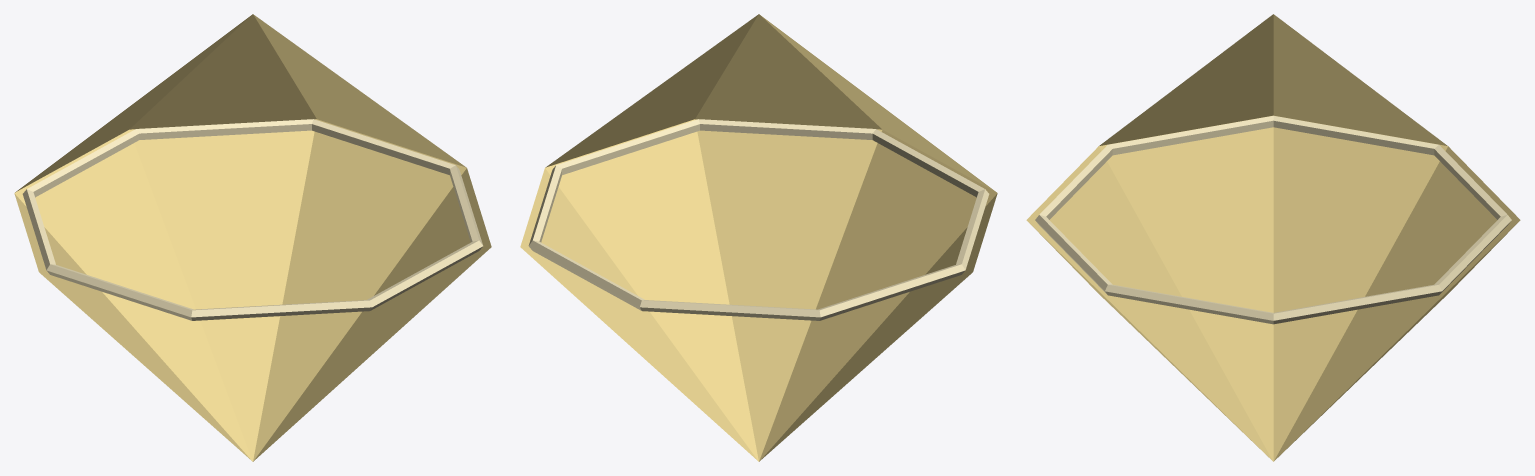
Rendered from gema_dorada.glb.
3 views of the same model, side by side, from view 1: azimuth 30°, elevation 25°; view 2: azimuth 150°, elevation 25°; view 3: azimuth 270°, elevation 25° (orthographic).
Parts seen in each view (by area): view 1: gema_dorada; view 2: gema_dorada; view 3: gema_dorada.
Boxes of the visible parts, <box> form: gema_dorada: <box>14,14,491,461</box>; gema_dorada: <box>520,14,997,461</box>; gema_dorada: <box>1026,14,1520,461</box>.
Bounding box in the file's own units: 0.56 × 0.56 × 0.56.
